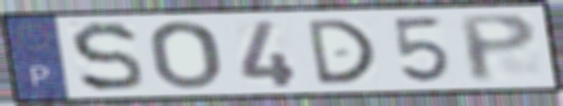4: (236, 17, 301, 90)
5: (389, 15, 454, 85)
D: (303, 17, 379, 87)
O: (146, 19, 224, 92)
P: (455, 11, 541, 85)
S: (67, 20, 147, 95)
